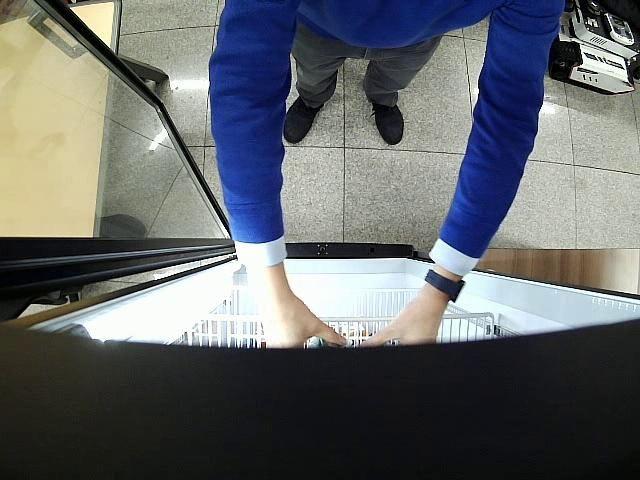00_hand: (246, 273, 347, 347), (359, 285, 443, 346)
